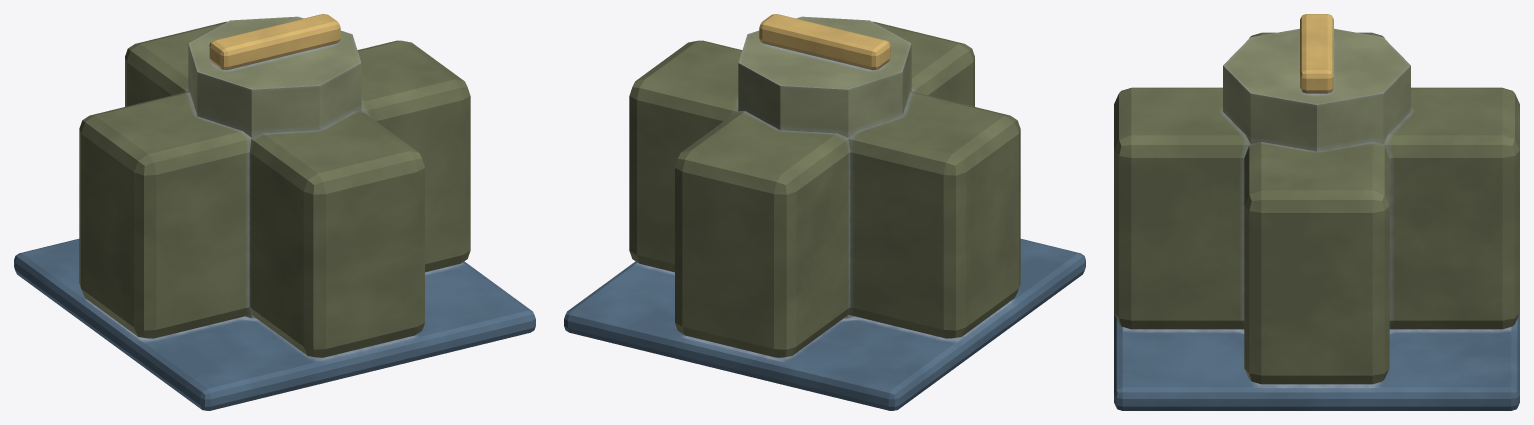
Rendered from com_wall_cross.glb.
3 renders of one model, left to right at view 1: azimuth 30°, elevation 25°; view 2: azimuth 150°, elevation 25°; view 3: azimuth 270°, elevation 25°, orthographic. The views are drawn at different scales.
Parts seen in each view (by area): view 1: com_wall_cross; view 2: com_wall_cross; view 3: com_wall_cross.
Boxes of the visible parts, box(x1,y1,x2,y2) form: com_wall_cross: box(14, 14, 535, 410); com_wall_cross: box(564, 14, 1085, 410); com_wall_cross: box(1114, 14, 1519, 410).
Bounding box in the file's own units: 0.95 × 0.74 × 0.95.
Materials: 1 (1 with a texture image).
